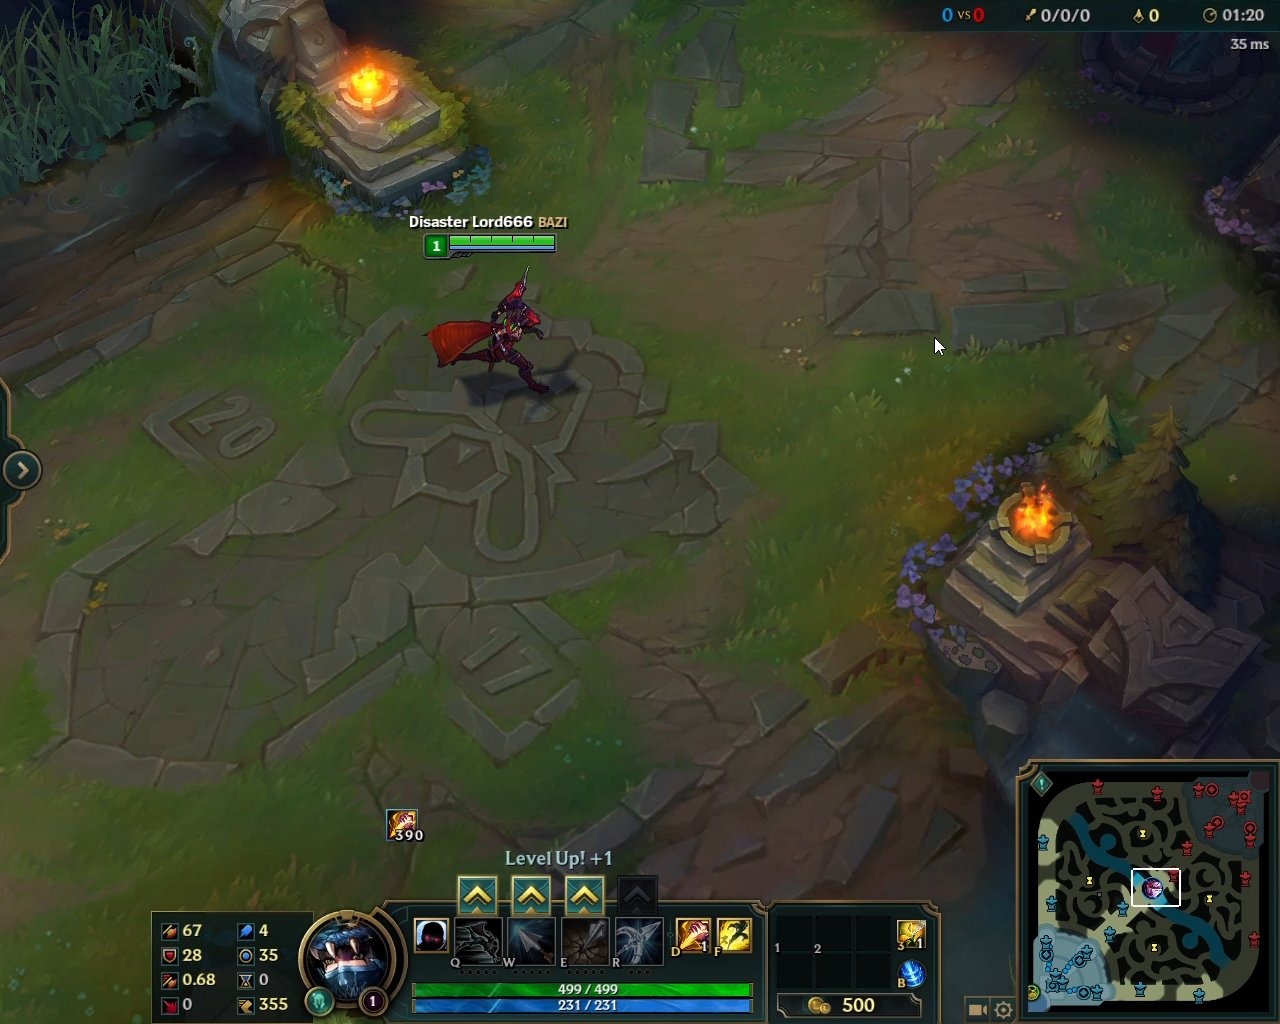Vayne: (417, 264, 548, 400)
